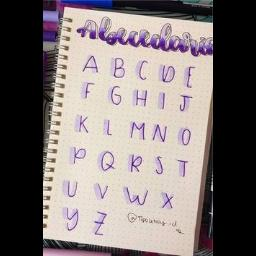a: (78, 52, 102, 74)
b: (110, 55, 128, 81)
c: (134, 58, 152, 82)
e: (183, 65, 197, 91)
f: (80, 80, 96, 100)
g: (106, 85, 124, 107)
h: (132, 88, 150, 110)
i: (157, 90, 167, 112)
j: (176, 93, 196, 115)
k: (71, 112, 91, 134)
l: (100, 118, 116, 138)
m: (128, 118, 146, 142)
n: (152, 123, 170, 143)
o: (176, 125, 194, 149)
p: (68, 144, 88, 168)
q: (96, 149, 118, 175)
r: (126, 152, 148, 176)
t: (176, 158, 190, 178)
u: (60, 177, 80, 201)
v: (92, 181, 114, 203)
w: (122, 185, 150, 209)
x: (159, 190, 177, 212)
y: (60, 206, 82, 234)
z: (90, 209, 112, 237)
